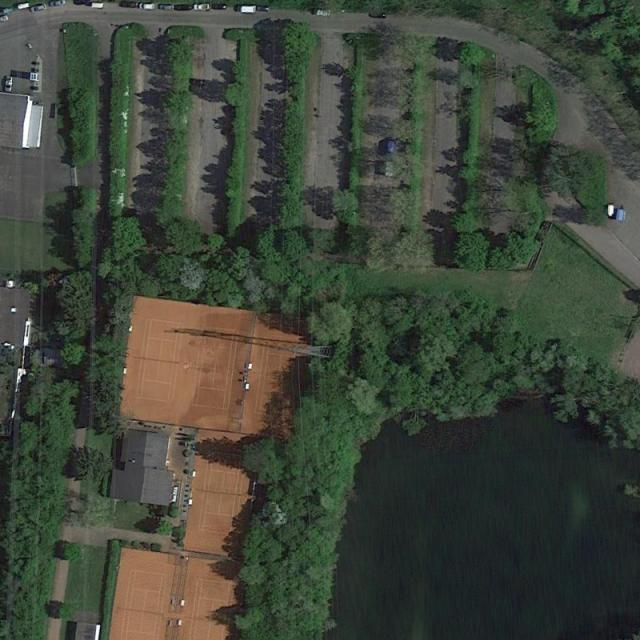vehicle: (234, 4, 258, 13), (29, 2, 48, 13), (310, 9, 332, 18), (386, 138, 397, 154), (120, 1, 139, 9), (49, 0, 67, 8), (158, 3, 174, 12), (210, 2, 228, 10), (174, 4, 194, 11), (368, 11, 388, 18), (138, 2, 155, 10), (194, 3, 210, 10), (6, 77, 12, 92), (257, 6, 270, 12)
